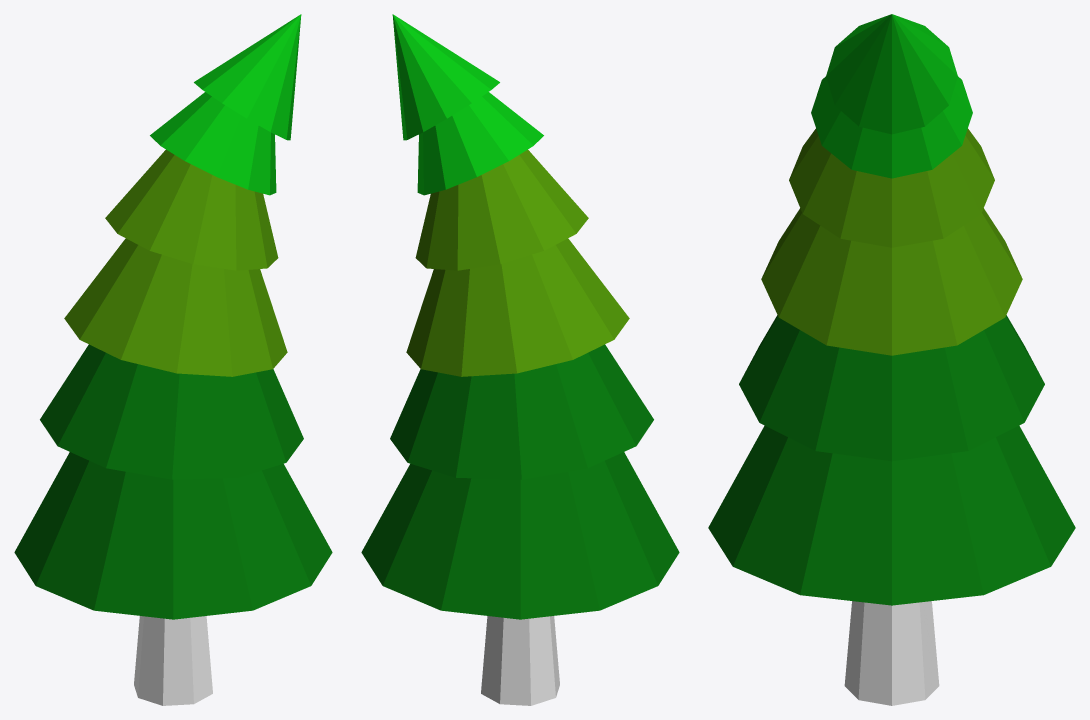
The model's file is PineTree2.fbx.
3 views of the same model, side by side, from view 1: azimuth 30°, elevation 25°; view 2: azimuth 150°, elevation 25°; view 3: azimuth 270°, elevation 25° (orthographic). The views are drawn at different scales.
Visible parts, largest first — view 1: Cylinder; view 2: Cylinder; view 3: Cylinder.
Boxes of the visible parts, <box> form: Cylinder: <box>14,14,332,705</box>; Cylinder: <box>361,14,679,705</box>; Cylinder: <box>708,14,1075,705</box>.
Size of the model in its own units: 6.72 by 15 by 6.72.
